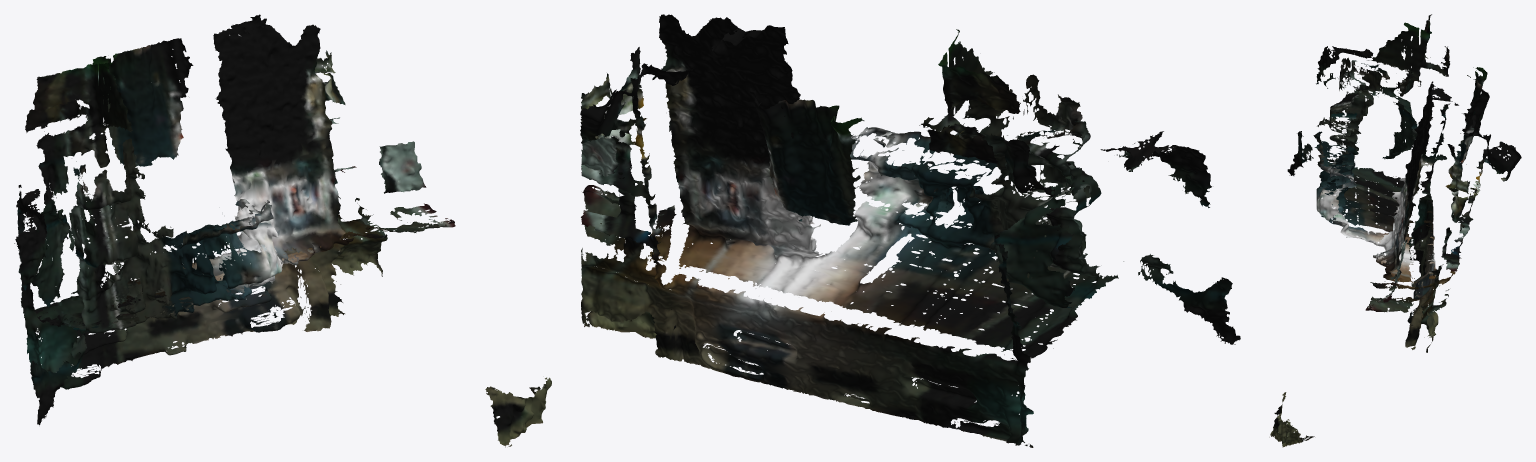
Rendered from color_model_f005_20251226_162844.obj.
The picture shows the model from 3 angles, left to right: view 1: azimuth 30°, elevation 25°; view 2: azimuth 150°, elevation 25°; view 3: azimuth 270°, elevation 25°; orthographic projection. The views are drawn at different scales.
Size of the model in its own units: 3.68 by 2.69 by 2.05.
